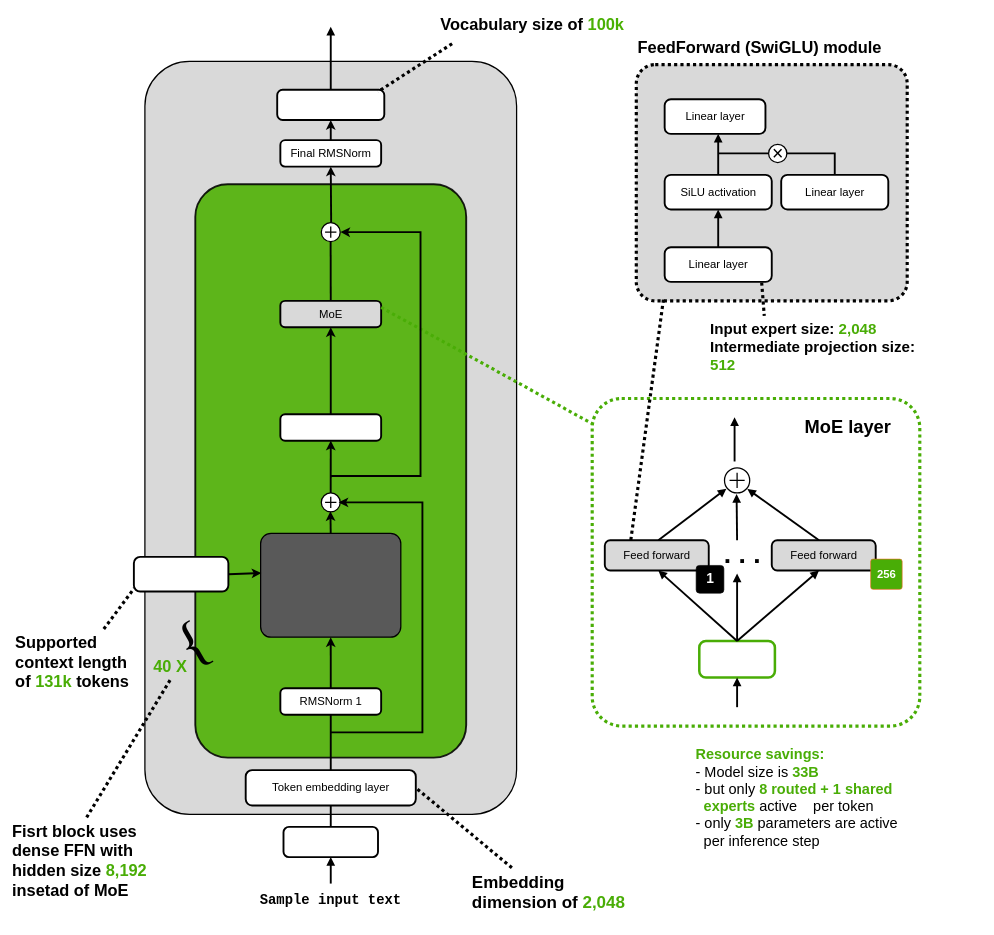
This 994x935 diagram has some shape labels left out. The box of each missing label's shape, as (x1, y1, x2, y2) in pixels:
Groped-query Attention( GQA ) + Sliding window attention ( SWA ), 3:1: (260, 532, 401, 638)
Linear output layer: (276, 89, 385, 121)
RMSNorm 2: (279, 413, 382, 441)
RoPE: (133, 556, 229, 592)
Router: (698, 639, 776, 679)
Tokenized text: (282, 826, 379, 858)
